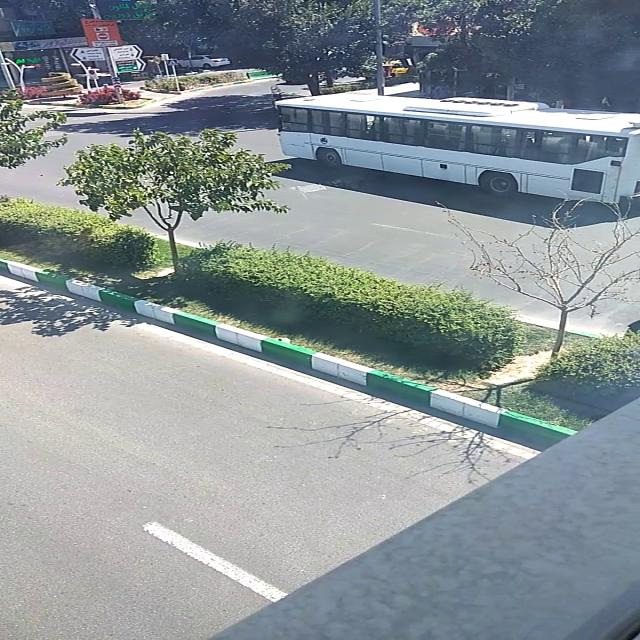bus: (274, 92, 640, 206)
car: (172, 56, 232, 68)
